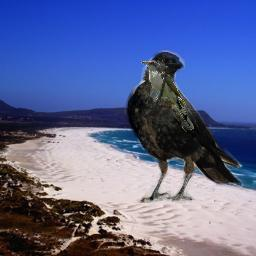Crow: (124, 50, 243, 203)
Cuckoo: (141, 60, 194, 130)
